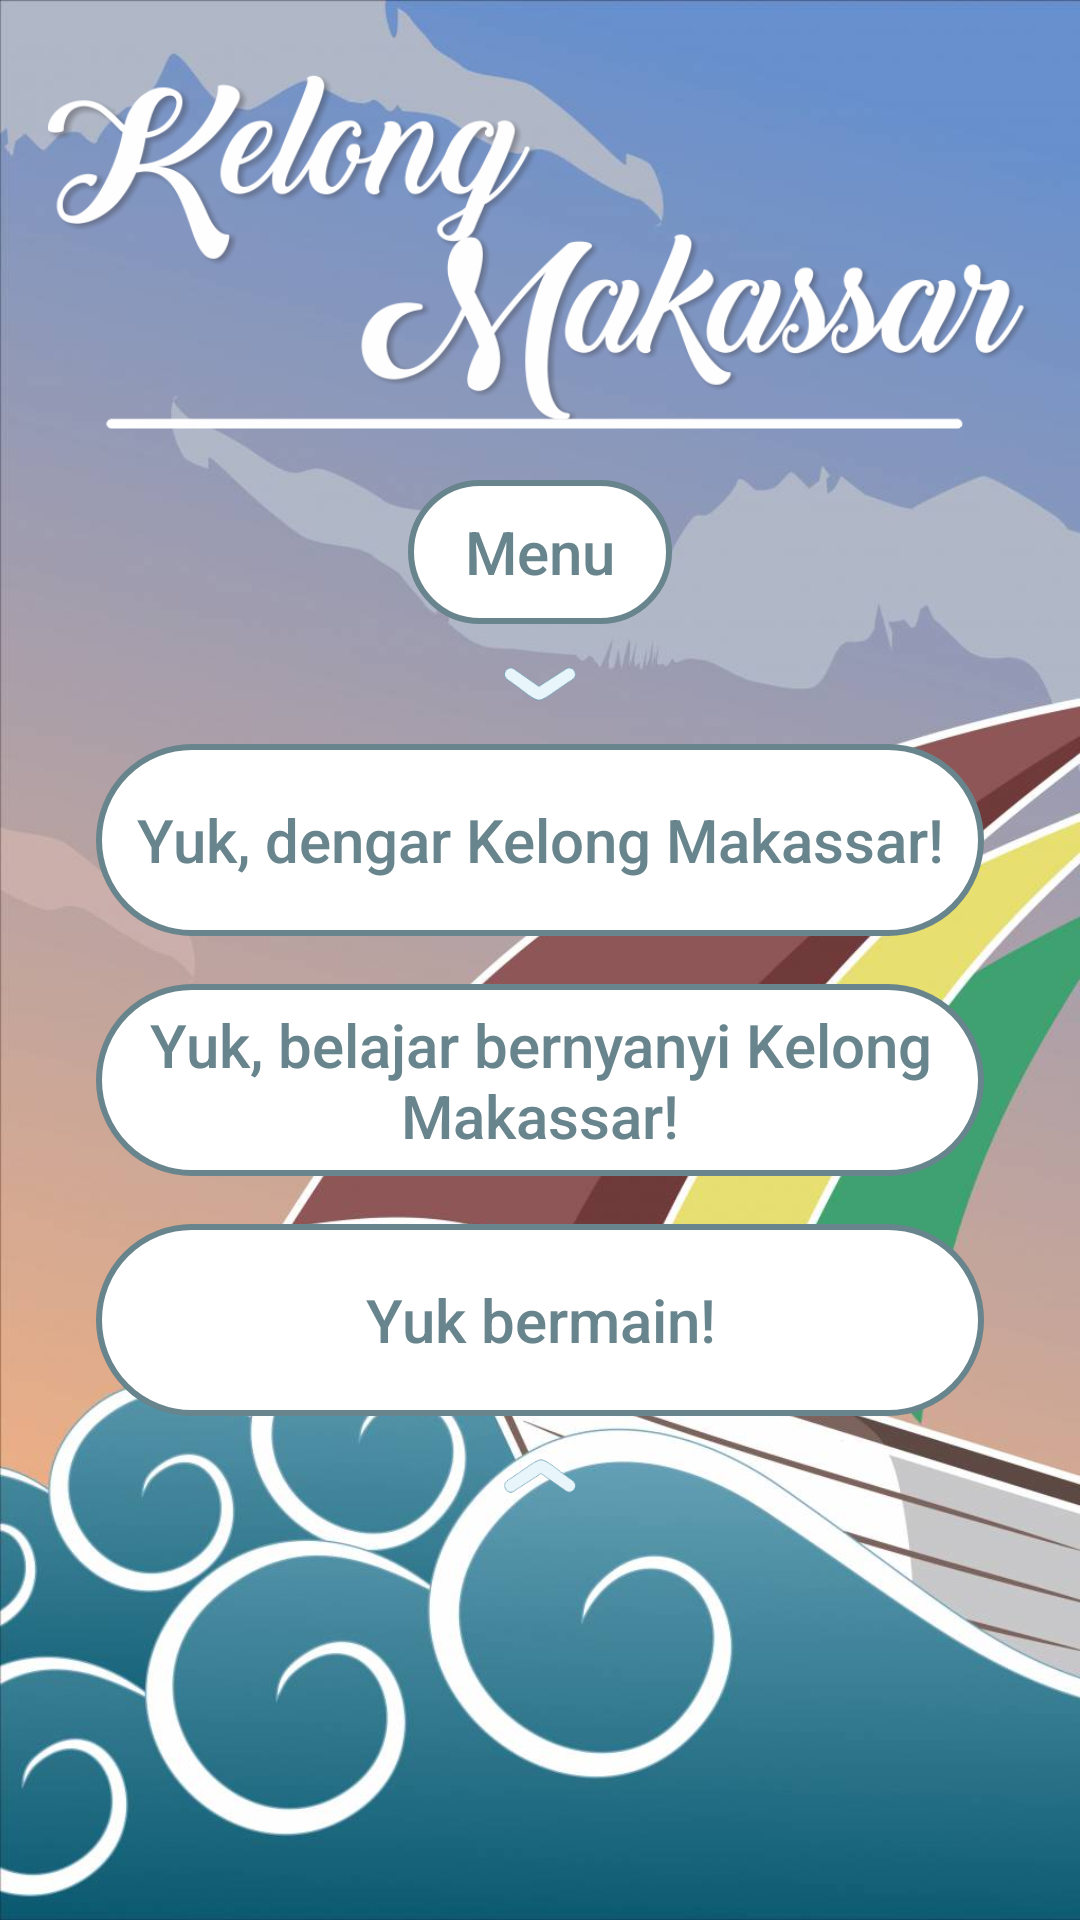

Screen size 1080 × 1920. Icon name, then its center in pixels as (x=x, y=y):
pull up menu: (x=540, y=1476)
